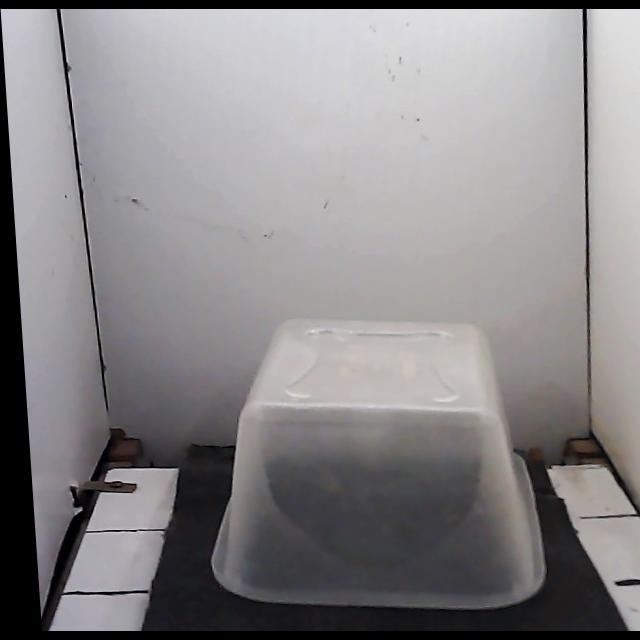plastico: (212, 321, 544, 609)
